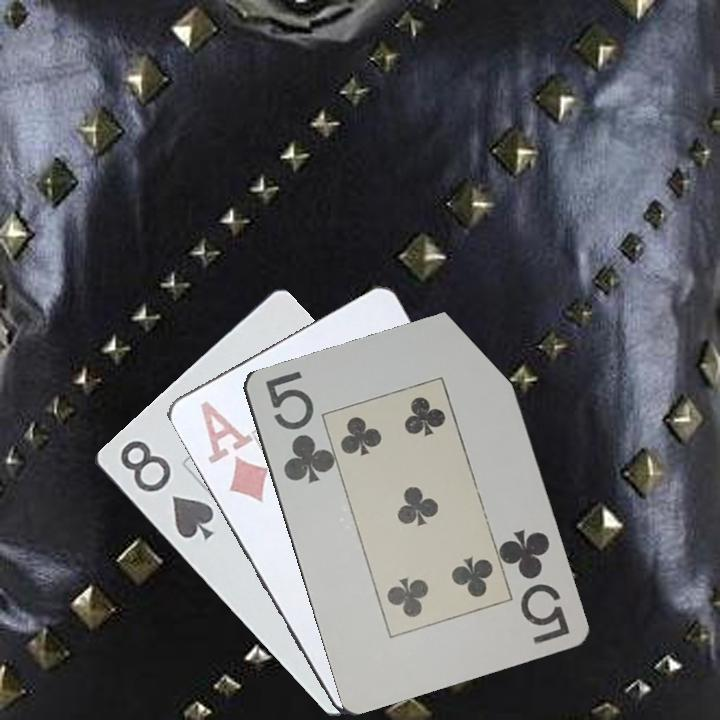5c: (497, 525, 572, 647), (261, 367, 334, 486)
8s: (115, 436, 216, 543)
Ad: (196, 397, 271, 506)
